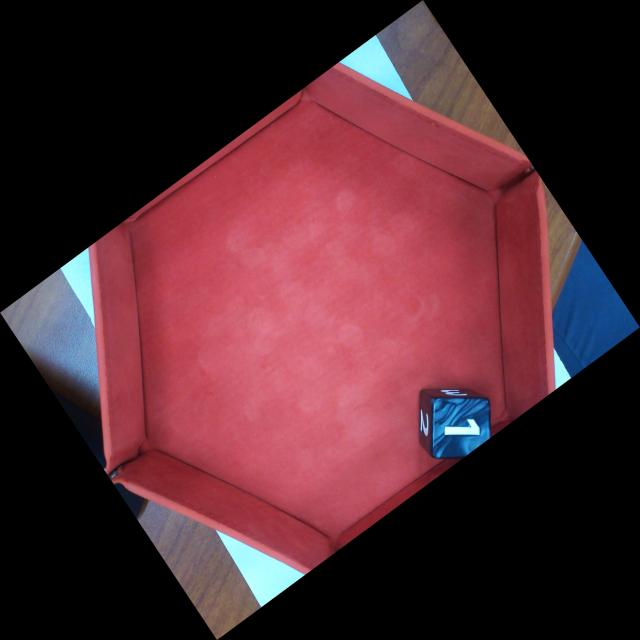dice: (435, 398, 492, 457)
